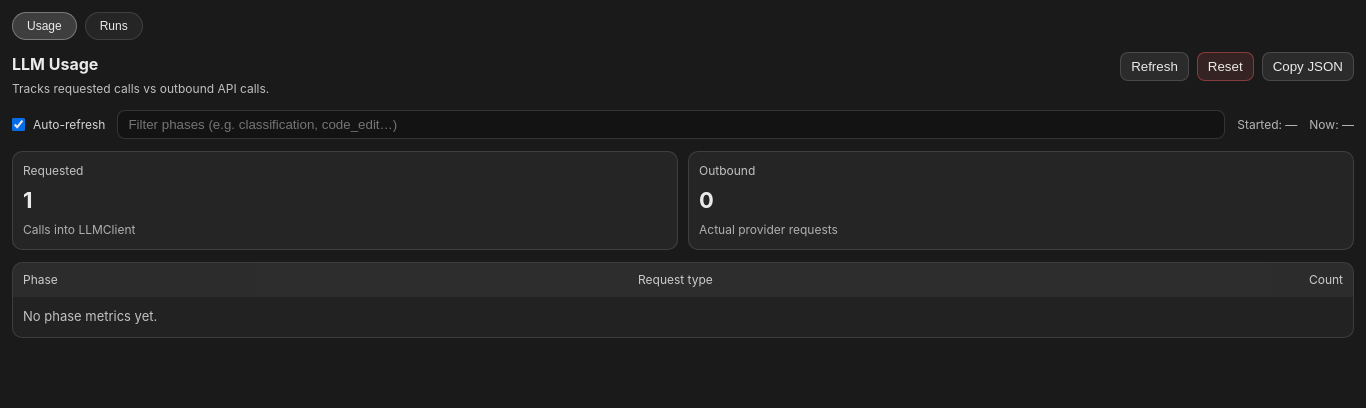
Test: LLMUsageTab › handles successful reset payloads with missing metrics and default reset error messages
The image size is (1366, 408).
Expected: the button with test id "llm-usage-copy" is enabled, [1262,52,1354,81]
Click the button with test id "llm-usage-reset": (1225, 66) [1197,52,1254,81]
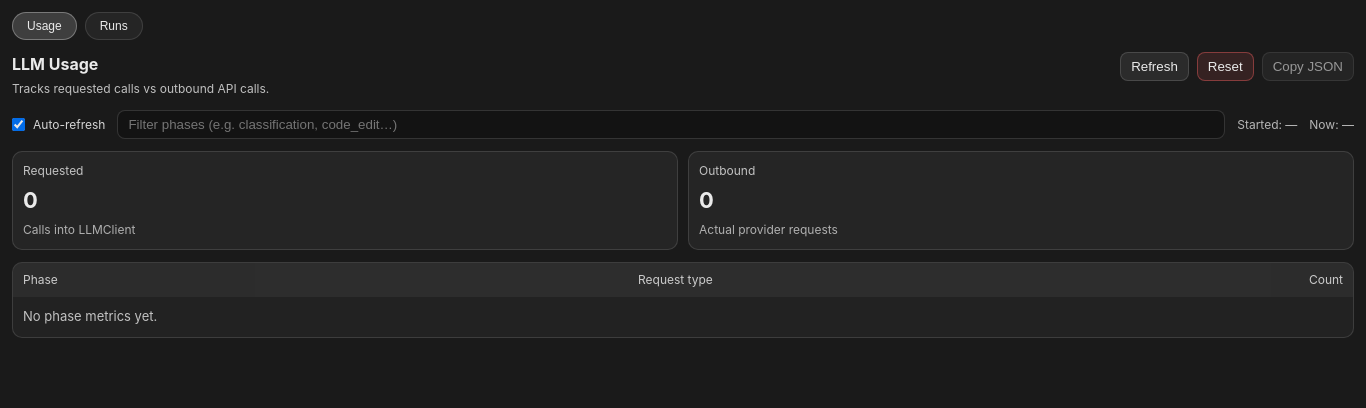
Expected: the button with test id "llm-usage-copy" is disabled, [1262,52,1354,81]
Click the button with test id "llm-usage-reset": (1225, 66) [1197,52,1254,81]
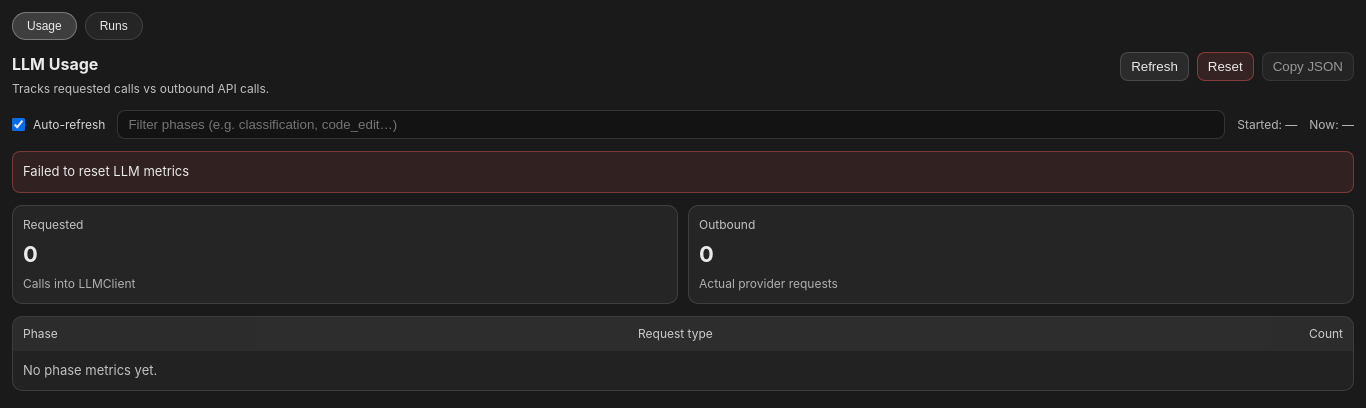
Expected: the message reads "Failed to reset LLM metrics", [23,163,189,179]
